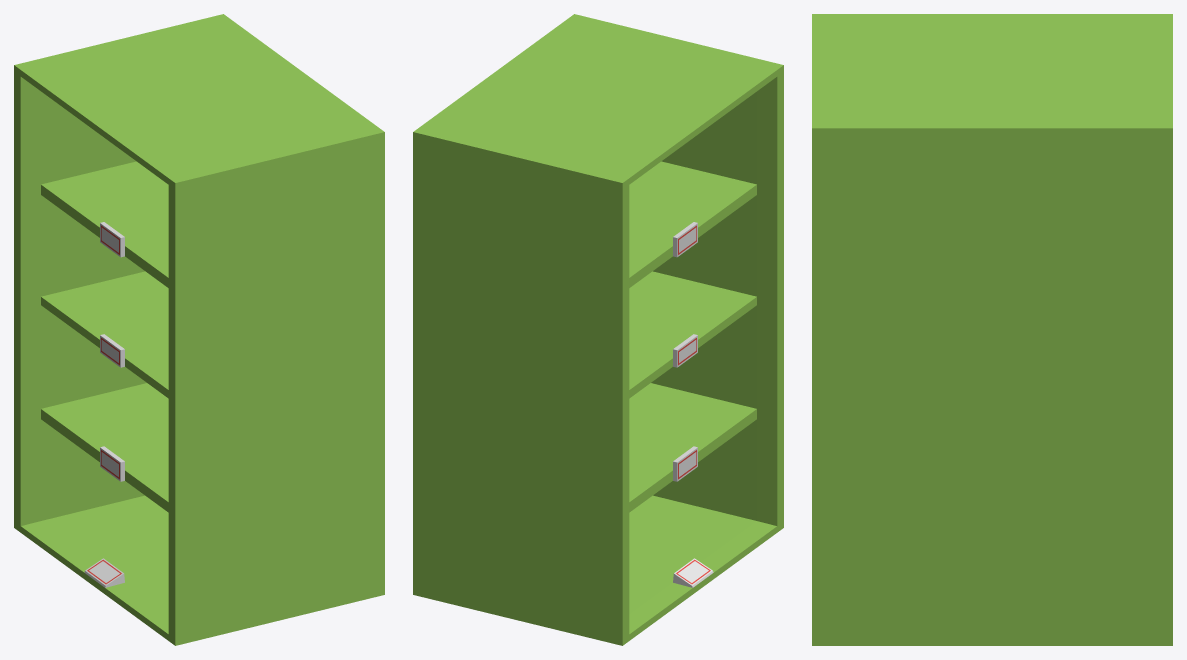
Rendered from RackSquare.fbx.
The picture shows the model from 3 angles, left to right: view 1: azimuth 30°, elevation 25°; view 2: azimuth 150°, elevation 25°; view 3: azimuth 270°, elevation 25°; orthographic projection. The views are drawn at different scales.
Visible parts, largest first — view 1: Rack square; view 2: Rack square; view 3: Rack square.
Part boxes in pixels (x1,y1,x2,y2): Rack square: (14, 14, 384, 645); Rack square: (413, 14, 783, 645); Rack square: (812, 14, 1172, 645).
Size of the model in its own units: 0.6 by 0.8 by 1.27.
